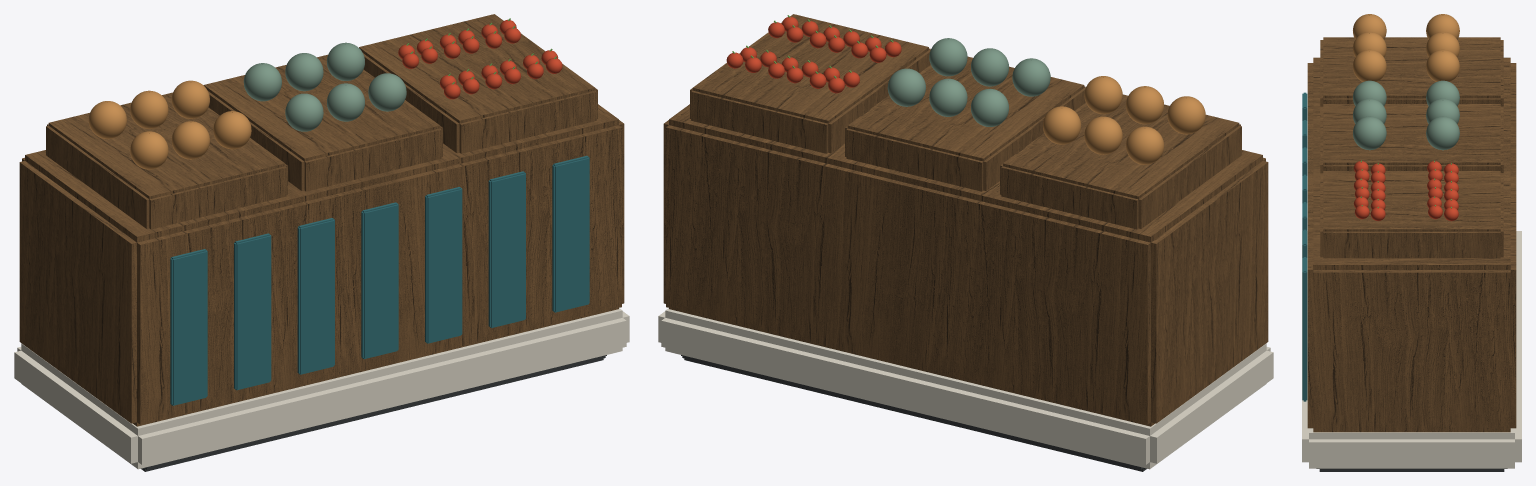
The model's file is collection_v29_food_0.glb.
The picture shows the model from 3 angles, left to right: view 1: azimuth 30°, elevation 25°; view 2: azimuth 150°, elevation 25°; view 3: azimuth 270°, elevation 25°; orthographic projection. The views are drawn at different scales.
Parts seen in each view (by area): view 1: collection_v29_food_0_CC0_Oak_veneer, collection_v29_food_0_V29_petrol_enamel, collection_v29_food_0_V29_ivory_lacquer, collection_v29_food_0_Anodised_graphite, collection_v29_food_0_Laminated_pastry.001, collection_v29_food_0_V23_soft_sage.005, collection_v29_food_0_V23_soft_sage.009, collection_v29_food_0_Laminated_pastry.005, collection_v29_food_0_V23_soft_sage.006, collection_v29_food_0_Laminated_pastry.002, collection_v29_food_0_Laminated_pastry.004, collection_v29_food_0_Laminated_pastry.006 (+10 smaller); view 2: collection_v29_food_0_CC0_Oak_veneer, collection_v29_food_0_V29_ivory_lacquer, collection_v29_food_0_Anodised_graphite, collection_v29_food_0_V23_soft_sage.005, collection_v29_food_0_Laminated_pastry.004, collection_v29_food_0_Laminated_pastry.001, collection_v29_food_0_V23_soft_sage.009, collection_v29_food_0_V23_soft_sage.008, collection_v29_food_0_Laminated_pastry.002, collection_v29_food_0_Laminated_pastry.003, collection_v29_food_0_V23_soft_sage.010, collection_v29_food_0_Laminated_pastry.005 (+9 smaller); view 3: collection_v29_food_0_CC0_Oak_veneer, collection_v29_food_0_V29_ivory_lacquer, collection_v29_food_0_V29_petrol_enamel, collection_v29_food_0_V23_soft_sage.010, collection_v29_food_0_V23_soft_sage.009, collection_v29_food_0_Laminated_pastry.006, collection_v29_food_0_Laminated_pastry.005, collection_v29_food_0_Anodised_graphite, collection_v29_food_0_Laminated_pastry.002, collection_v29_food_0_V23_soft_sage.006, collection_v29_food_0_Laminated_pastry.004, collection_v29_food_0_Laminated_pastry.001 (+10 smaller).
Part boxes in pixels (<box>): collection_v29_food_0_CC0_Oak_veneer: <box>19,14,624,426</box>; collection_v29_food_0_V29_petrol_enamel: <box>170,155,589,405</box>; collection_v29_food_0_V29_ivory_lacquer: <box>14,308,629,469</box>; collection_v29_food_0_Anodised_graphite: <box>141,355,606,471</box>; collection_v29_food_0_Laminated_pastry.001: <box>130,131,168,169</box>; collection_v29_food_0_V23_soft_sage.005: <box>285,93,323,131</box>; collection_v29_food_0_V23_soft_sage.009: <box>368,73,406,111</box>; collection_v29_food_0_Laminated_pastry.005: <box>213,111,251,149</box>; collection_v29_food_0_V23_soft_sage.006: <box>243,63,281,101</box>; collection_v29_food_0_Laminated_pastry.002: <box>88,101,126,139</box>; collection_v29_food_0_Laminated_pastry.004: <box>130,90,168,128</box>; collection_v29_food_0_Laminated_pastry.006: <box>171,80,209,118</box>; collection_v29_food_0_CC0_Oak_veneer: <box>663,14,1268,426</box>; collection_v29_food_0_V29_ivory_lacquer: <box>658,308,1273,469</box>; collection_v29_food_0_Anodised_graphite: <box>681,355,1146,471</box>; collection_v29_food_0_V23_soft_sage.005: <box>1012,58,1050,96</box>; collection_v29_food_0_Laminated_pastry.004: <box>1084,116,1122,154</box>; collection_v29_food_0_Laminated_pastry.001: <box>1167,96,1205,134</box>; collection_v29_food_0_V23_soft_sage.009: <box>929,38,967,76</box>; collection_v29_food_0_V23_soft_sage.008: <box>929,78,967,116</box>; collection_v29_food_0_Laminated_pastry.002: <box>1126,126,1163,164</box>; collection_v29_food_0_Laminated_pastry.003: <box>1126,86,1164,124</box>; collection_v29_food_0_V23_soft_sage.010: <box>887,68,925,106</box>; collection_v29_food_0_Laminated_pastry.005: <box>1084,76,1122,114</box>; collection_v29_food_0_CC0_Oak_veneer: <box>1307,37,1516,432</box>; collection_v29_food_0_V29_ivory_lacquer: <box>1302,231,1521,468</box>; collection_v29_food_0_V29_petrol_enamel: <box>1302,92,1307,401</box>; collection_v29_food_0_V23_soft_sage.010: <box>1426,116,1459,150</box>; collection_v29_food_0_V23_soft_sage.009: <box>1353,116,1386,150</box>; collection_v29_food_0_Laminated_pastry.006: <box>1426,49,1459,81</box>; collection_v29_food_0_Laminated_pastry.005: <box>1353,49,1386,81</box>; collection_v29_food_0_Anodised_graphite: <box>1316,468,1507,471</box>; collection_v29_food_0_Laminated_pastry.002: <box>1426,14,1459,39</box>; collection_v29_food_0_V23_soft_sage.006: <box>1426,80,1459,106</box>; collection_v29_food_0_Laminated_pastry.004: <box>1426,32,1459,57</box>; collection_v29_food_0_Laminated_pastry.001: <box>1353,14,1386,39</box>.
Bounding box in the file's own units: 1.8 × 1.07 × 0.78.
Materials: 28 (1 with a texture image).
